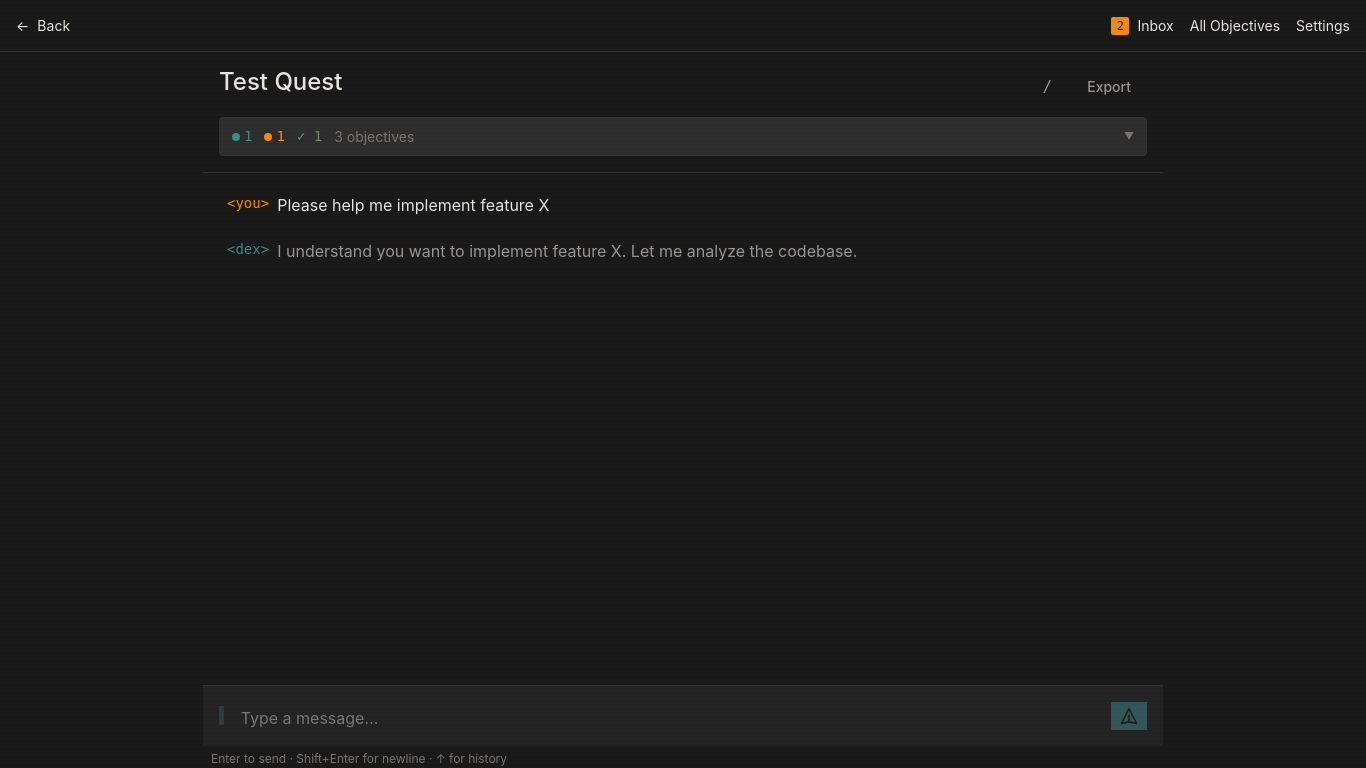
Test: QuestDetail › chat input › shows optimistic user message
Step 1. Type "My new message" into the text box → (670, 718), box [241,706,1099,730]
Then press Enter
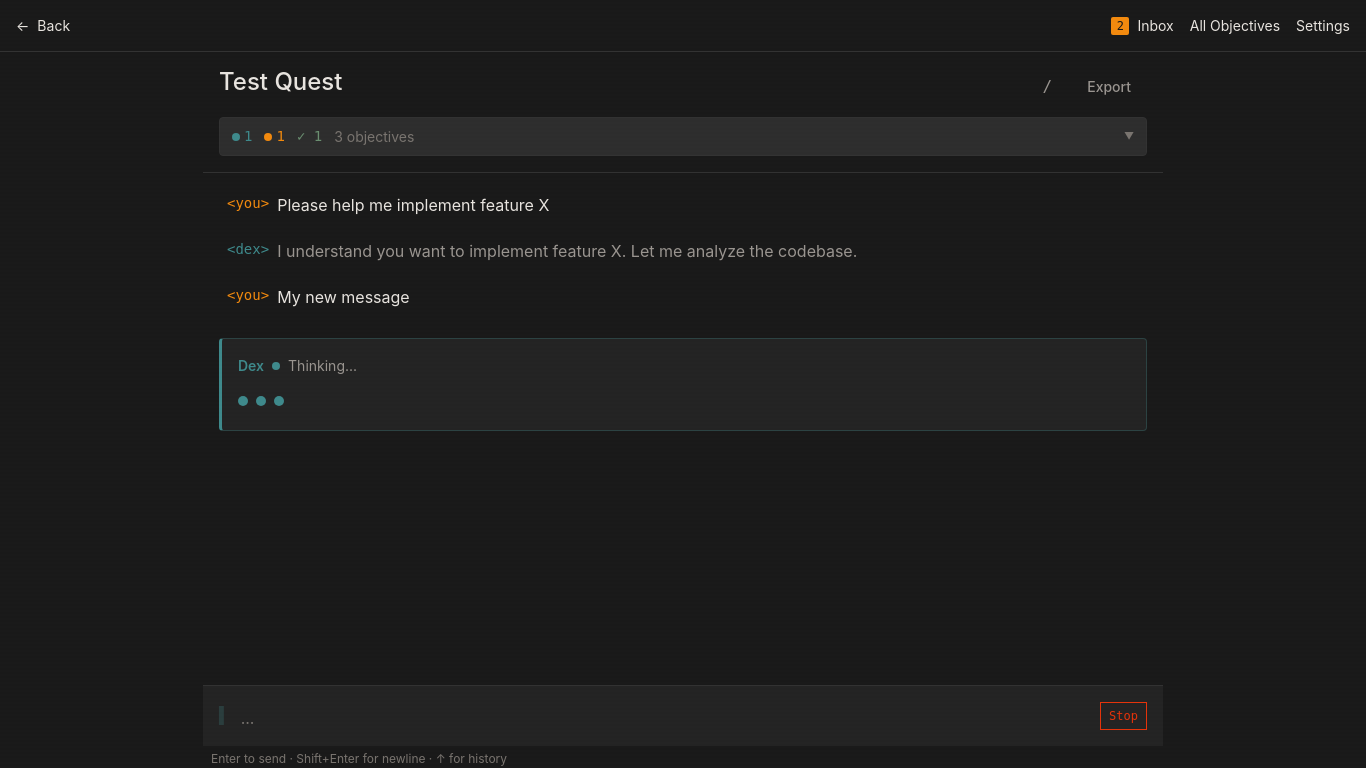
Expected: the text "My new message" is shown, [277,287,410,307]
